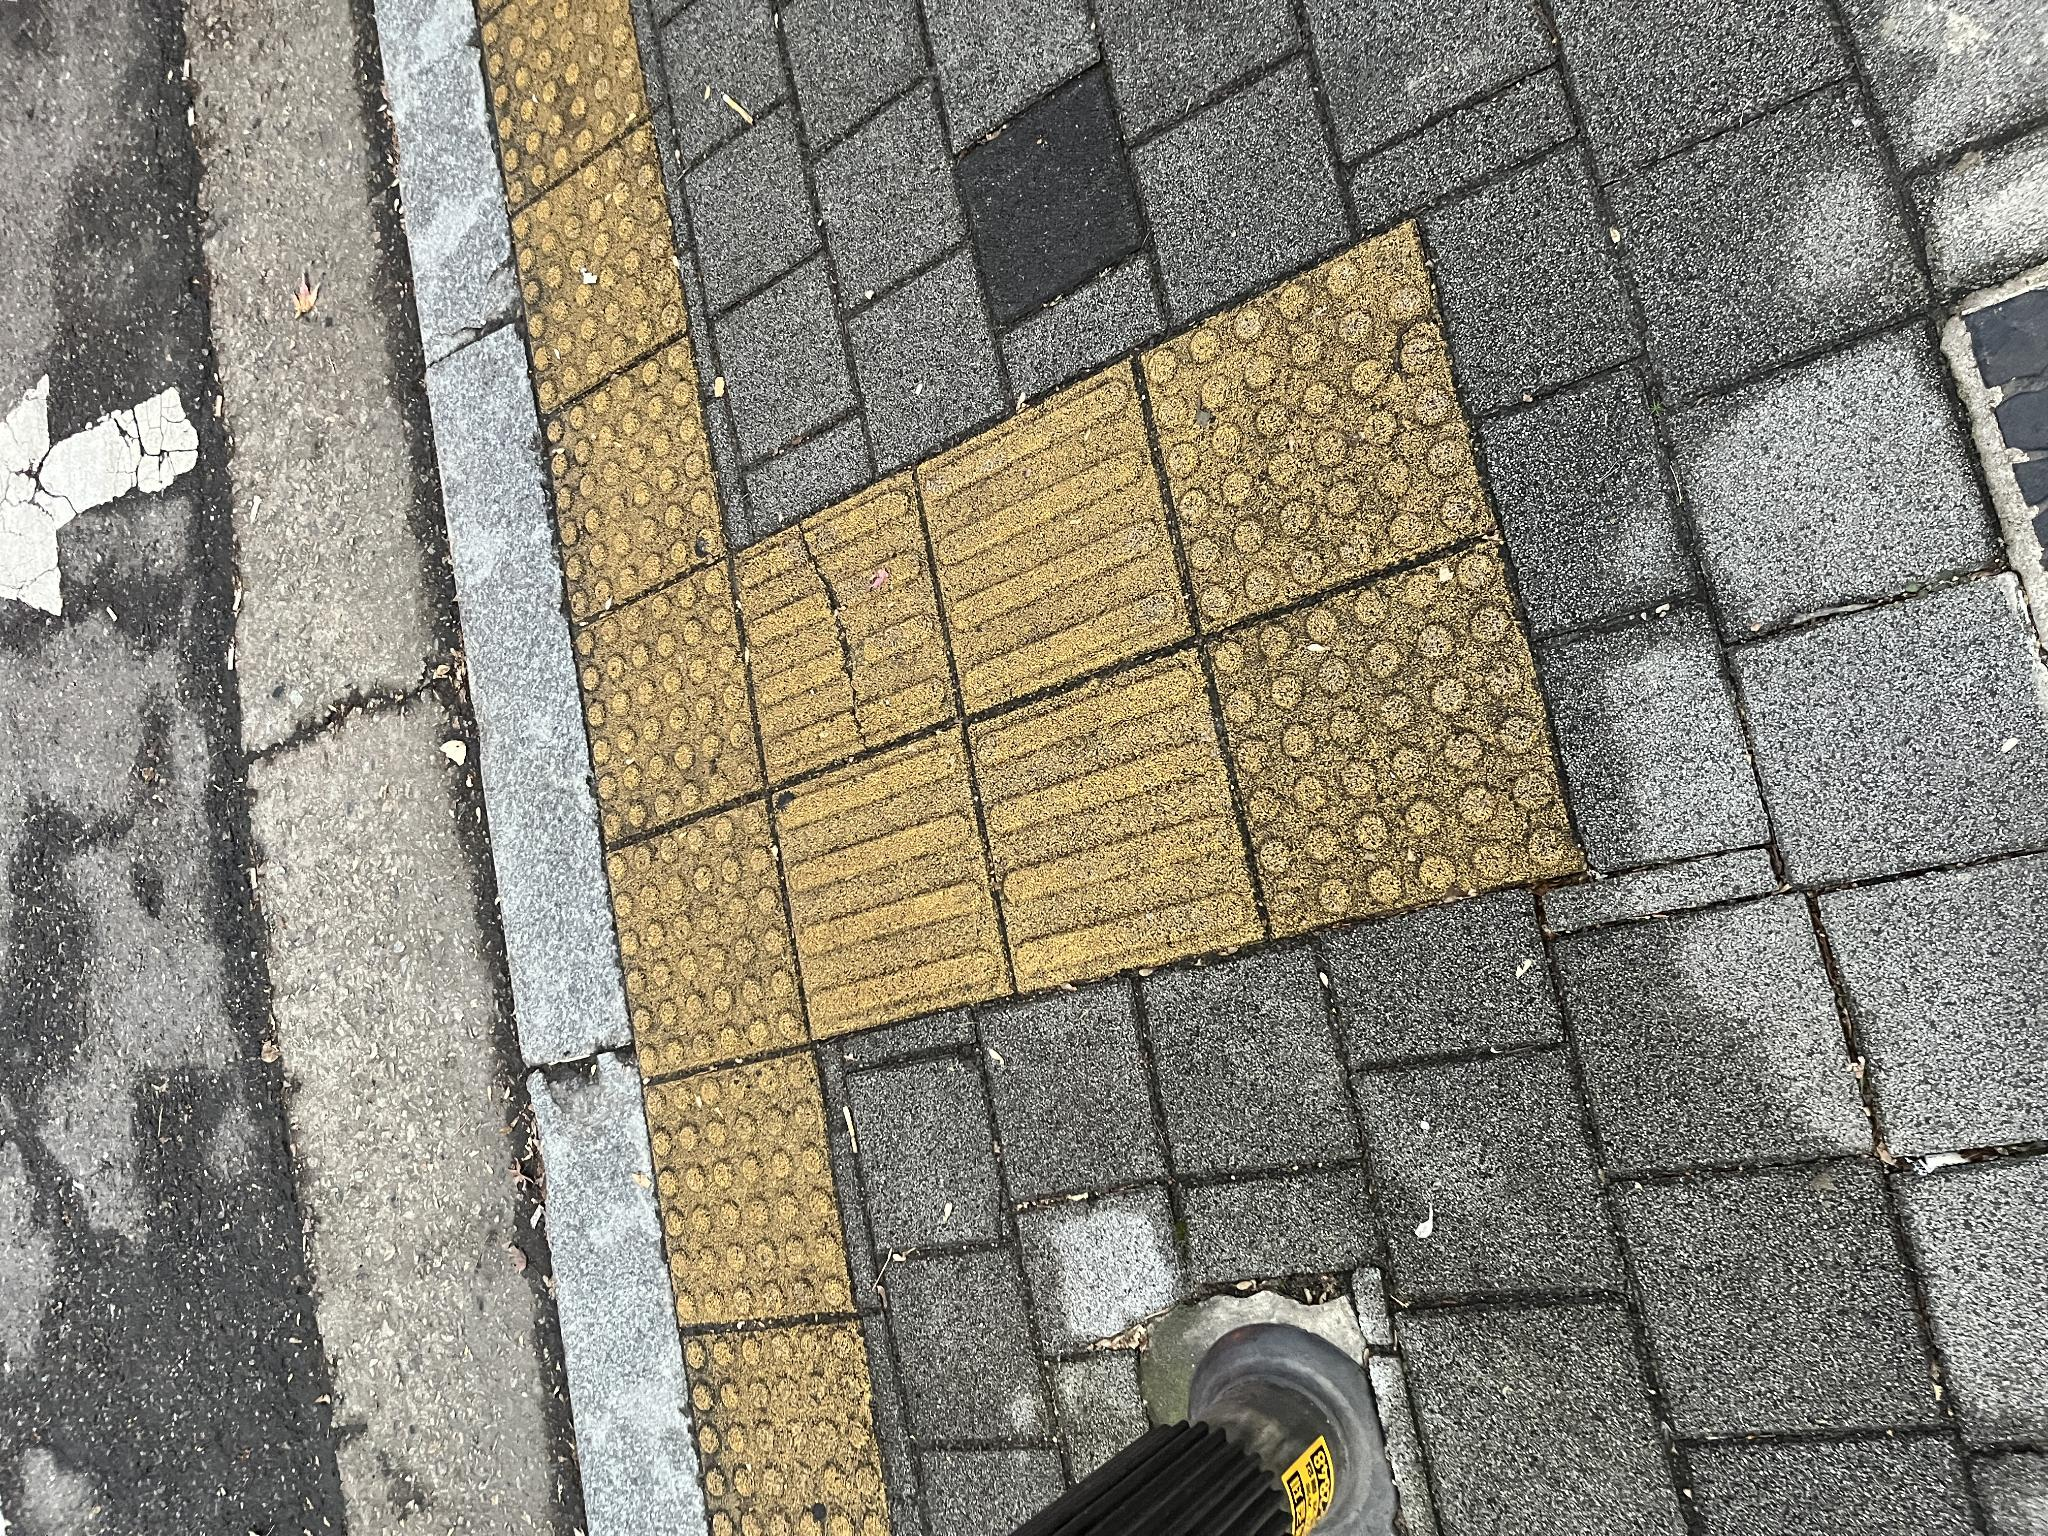Stop block normal: (910, 1142, 1316, 1488), (600, 1205, 998, 1536), (460, 603, 739, 805), (213, 645, 485, 850), (695, 574, 974, 762), (911, 544, 1198, 724), (1126, 511, 1414, 684)
Straight block broken: (755, 733, 1066, 955)
Straight block normal: (543, 968, 890, 1260), (821, 916, 1176, 1189), (498, 771, 808, 1008)
